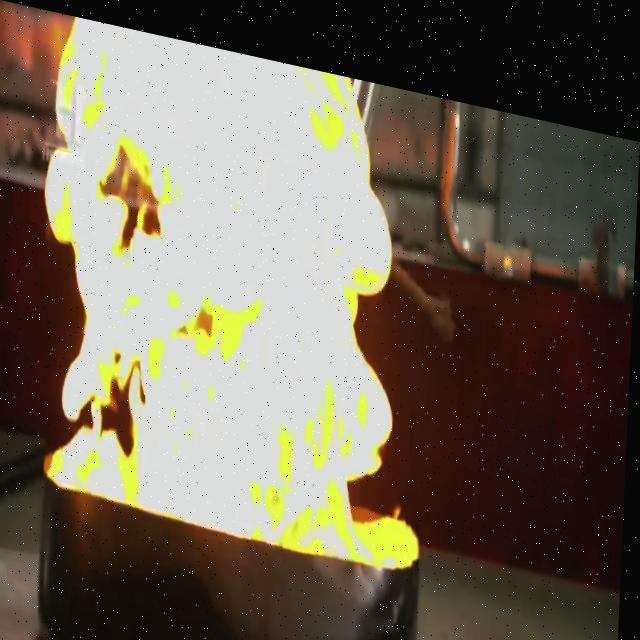Fire: (42, 18, 430, 544)
